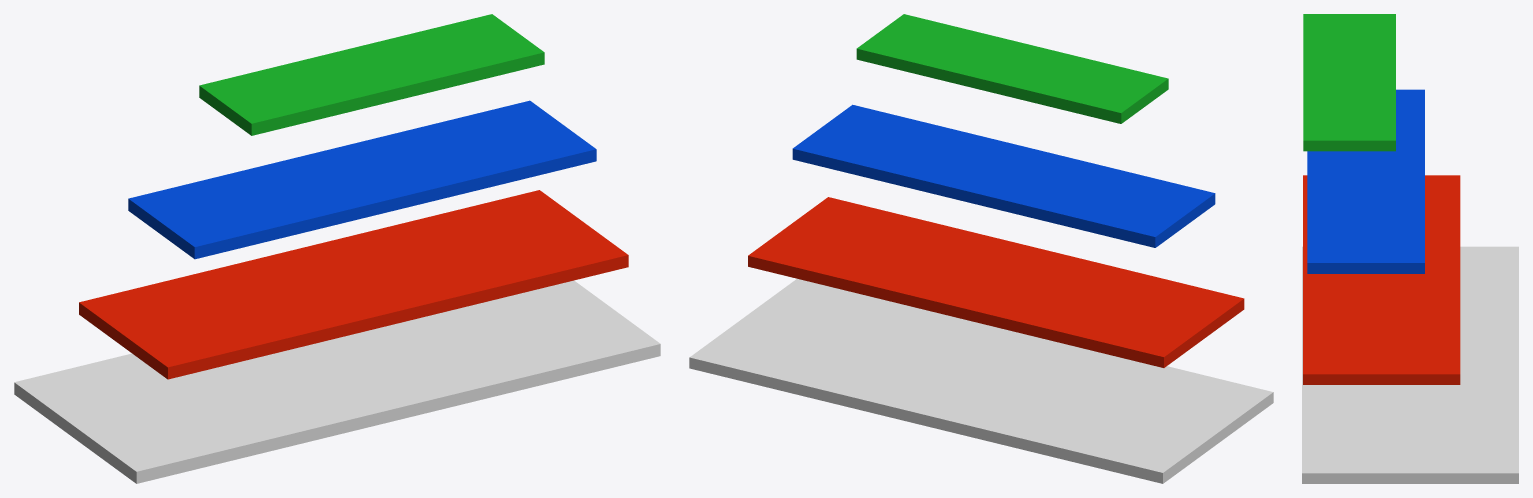
The model's file is shelves2.fbx.
3 views of the same model, side by side, from view 1: azimuth 30°, elevation 25°; view 2: azimuth 150°, elevation 25°; view 3: azimuth 270°, elevation 25° (orthographic). The views are drawn at different scales.
Visible parts, largest first — view 1: white_Shelf, red_shelf, blueshelf1, greenShelf; view 2: white_Shelf, red_shelf, blueshelf1, greenShelf; view 3: white_Shelf, red_shelf, blueshelf1, greenShelf.
Part boxes in pixels (x1,y1,x2,y2): white_Shelf: [14, 280, 660, 483]; red_shelf: [79, 190, 628, 379]; blueshelf1: [128, 100, 596, 259]; greenShelf: [199, 14, 544, 135]; white_Shelf: [689, 278, 1273, 483]; red_shelf: [748, 197, 1244, 367]; blueshelf1: [792, 104, 1215, 247]; greenShelf: [856, 14, 1168, 123]; white_Shelf: [1302, 246, 1518, 483]; red_shelf: [1303, 175, 1460, 384]; blueshelf1: [1307, 89, 1424, 273]; greenShelf: [1303, 14, 1395, 151].
Size of the model in its own units: 4.06 by 2.45 by 1.64.
